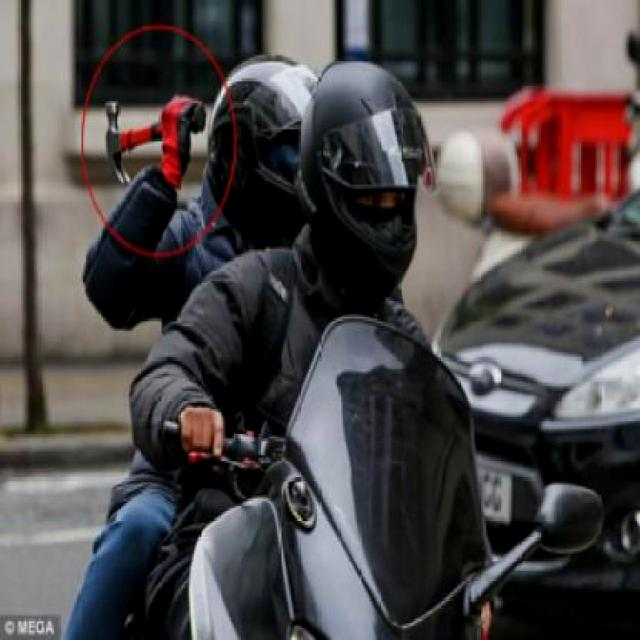With Helmet: (297, 48, 438, 292), (205, 46, 320, 246)
